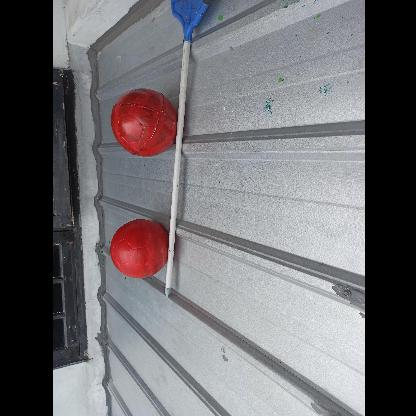red_ball: (108, 89, 176, 157), (108, 220, 167, 280)
